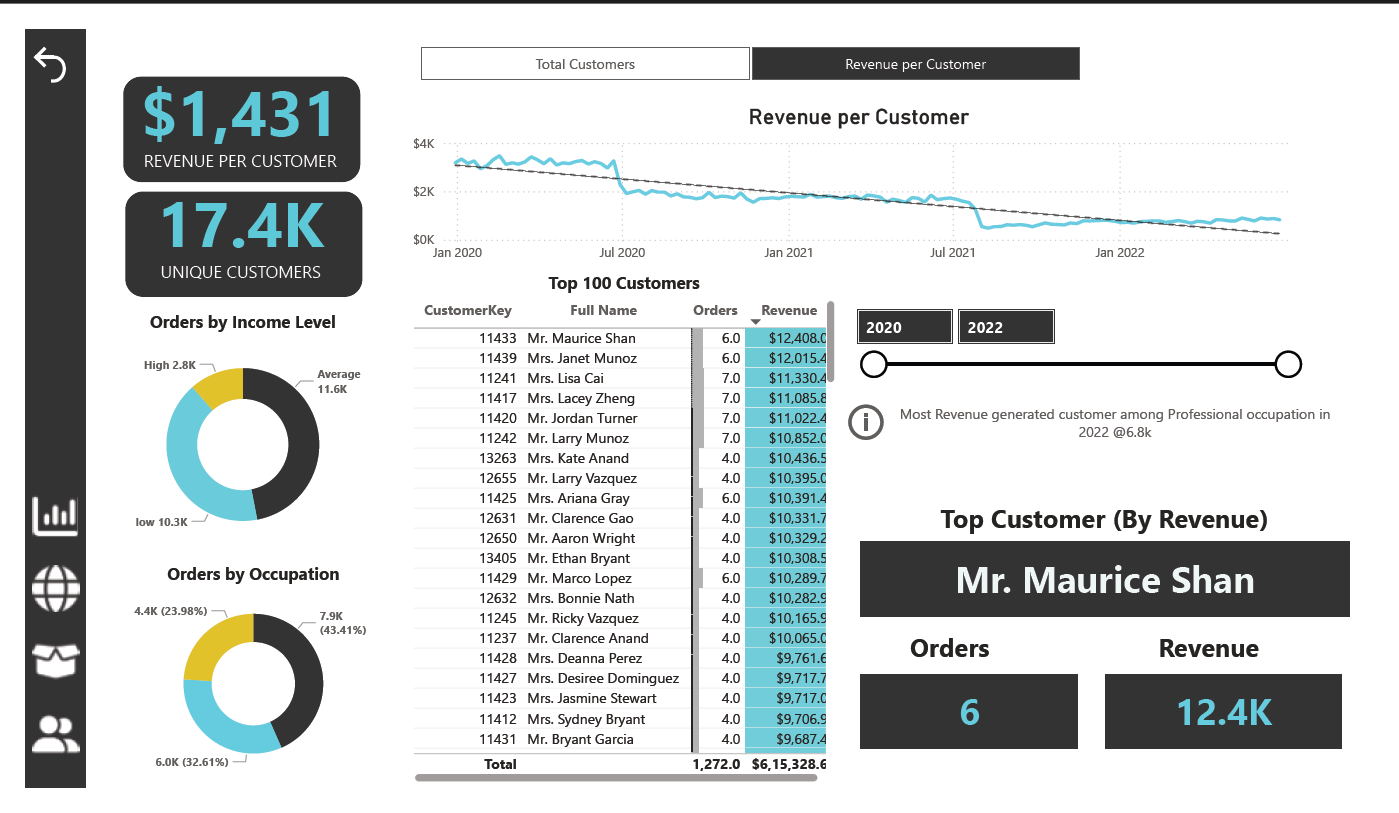

The page's visual inventory and layout, read from the dashboard file:
{"tool":"powerbi","page":{"name":"Customer Detail","canvas":[1280,720],"ordinal":3},"visuals":[{"type":"shape","box":[0,0,45,720],"z":0},{"type":"actionButton","box":[2.5,516.7,45.6,37.8],"z":0,"group":"g1"},{"type":"shape","box":[81.7,30,225,100],"z":1000},{"type":"actionButton","box":[3.3,563.4,45.6,37.8],"z":1000,"group":"g1"},{"type":"actionButton","box":[3.3,611.1,45.6,37.8],"z":2000,"group":"g1"},{"type":"shape","box":[80,152.7,225,100],"z":2000},{"type":"card","fields":{"Values":["Measure Table.Total Customers"]},"box":[66.7,0,256.2,150],"z":3000},{"type":"actionButton","box":[3.3,657.8,45.6,37.8],"z":3000,"group":"g1"},{"type":"card","fields":{"Values":["Measure Table.Average Revenue per Customer"]},"box":[65,122.7,256.2,150],"z":4000},{"type":"lineChart","fields":{"Y":["Measure Table.Total Customers"],"Category":["Calendar Lookup.Date Hierarchy.Year","Calendar Lookup.Date Hierarchy.Start of Month","Calendar Lookup.Date Hierarchy.Start of Week","Calendar Lookup.Date Hierarchy.Date"]},"box":[345.9,63.3,898.6,188.8],"z":5000},{"type":"donutChart","title":"Orders by Income Level","fields":{"Category":["Customer Lookup.Income Level"],"Y":["Measure Table.Total Orders"]},"box":[63.8,272.5,257.5,210],"z":6000},{"type":"donutChart","title":"Orders by Occupation","fields":{"Y":["Measure Table.Total Orders"],"Category":["Customer Lookup.Occupation"]},"box":[63.8,490,257.5,210],"z":7000},{"type":"tableEx","title":"Top 100 Customers","fields":{"Values":["Customer Lookup.CustomerKey","Customer Lookup.Full Name","Measure Table.Total Orders","Measure Table.Total Revenue"]},"box":[346,273.6,449.4,418.4],"z":8000},{"type":"card","fields":{"Values":["Min(Customer Lookup.Full Name)"]},"box":[829.6,390.1,414.5,65.1],"z":9000},{"type":"card","fields":{"Values":["Measure Table.Total Orders"]},"box":[829.6,487,190.7,65.1],"z":10000},{"type":"card","fields":{"Values":["Measure Table.Total Revenue"]},"box":[1048.7,487,195.4,65.1],"z":11000},{"type":"textbox","box":[829.6,361.7,190.7,37.9],"z":12000},{"type":"textbox","box":[829.6,458.4,190.7,37.9],"z":13000},{"type":"textbox","box":[1048.7,458.4,190.7,37.9],"z":14000},{"type":"slicer","fields":{"Values":["Calendar Lookup.Year"]},"box":[811.6,272.4,432.9,80.3],"z":15000},{"type":"actionButton","box":[830,586.7,410,56.7],"z":16000},{"type":"actionButton","box":[3.3,5.6,35.6,35.6],"z":17000},{"type":"group","id":"g1","title":"Navigation Buttons","box":[2.5,516.7,46.4,178.9],"z":18000},{"type":"slicer","fields":{"Values":["Customer Metric Selection.Customer Metric Selection"]},"box":[323.3,27.1,415.9,36.2],"z":19000}]}

Visuals, with their boxes on the page's 1280x720 design canvas (x1, y1, x2, y2). These are canvas units, not pixel positions in the 1399x813 screenshot, which may show the page scaled, cropped or inside an application window:
shape: box(0, 0, 45, 720)
actionButton: box(2, 517, 48, 554)
shape: box(82, 30, 307, 130)
actionButton: box(3, 563, 49, 601)
actionButton: box(3, 611, 49, 649)
shape: box(80, 153, 305, 253)
card - Measure Table.Total Customers: box(67, 0, 323, 150)
actionButton: box(3, 658, 49, 696)
card - Measure Table.Average Revenue per Customer: box(65, 123, 321, 273)
lineChart - Measure Table.Total Customers x Calendar Lookup.Date Hierarchy.Year: box(346, 63, 1244, 252)
"Orders by Income Level" donutChart: box(64, 272, 321, 482)
"Orders by Occupation" donutChart: box(64, 490, 321, 700)
"Top 100 Customers" tableEx: box(346, 274, 795, 692)
card - Min(Customer Lookup.Full Name): box(830, 390, 1244, 455)
card - Measure Table.Total Orders: box(830, 487, 1020, 552)
card - Measure Table.Total Revenue: box(1049, 487, 1244, 552)
textbox: box(830, 362, 1020, 400)
textbox: box(830, 458, 1020, 496)
textbox: box(1049, 458, 1239, 496)
slicer - Calendar Lookup.Year: box(812, 272, 1244, 353)
actionButton: box(830, 587, 1240, 643)
actionButton: box(3, 6, 39, 41)
"Navigation Buttons" group: box(2, 517, 49, 696)
slicer - Customer Metric Selection.Customer Metric Selection: box(323, 27, 739, 63)
